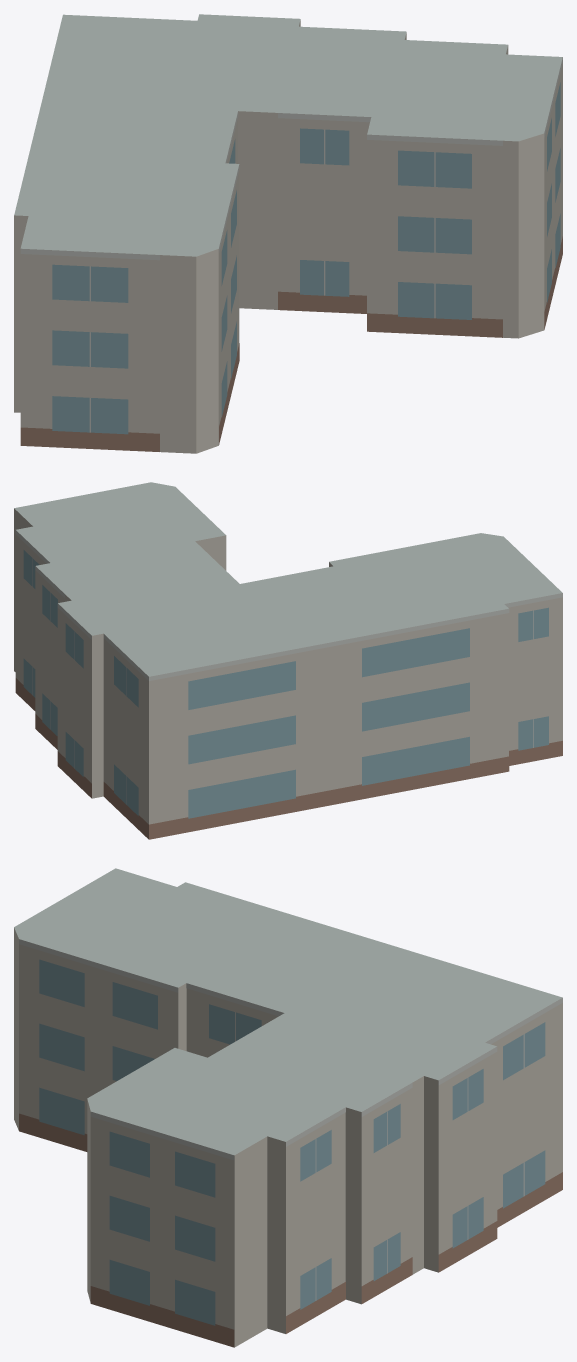
The model's file is survey-upis-32901984.glb.
The picture shows the model from 3 angles, top to bottom: view 1: azimuth 30°, elevation 25°; view 2: azimuth 150°, elevation 25°; view 3: azimuth 270°, elevation 25°; orthographic projection. The views are drawn at different scales.
Visible parts, largest first — view 1: survey-upis-32901984.tmp; view 2: survey-upis-32901984.tmp; view 3: survey-upis-32901984.tmp.
Part boxes in pixels (x1,y1,x2,y2): survey-upis-32901984.tmp: (14, 14, 562, 453); survey-upis-32901984.tmp: (14, 482, 562, 839); survey-upis-32901984.tmp: (14, 868, 562, 1347).
Bounding box in the file's own units: 29.32 × 9.15 × 23.68.
